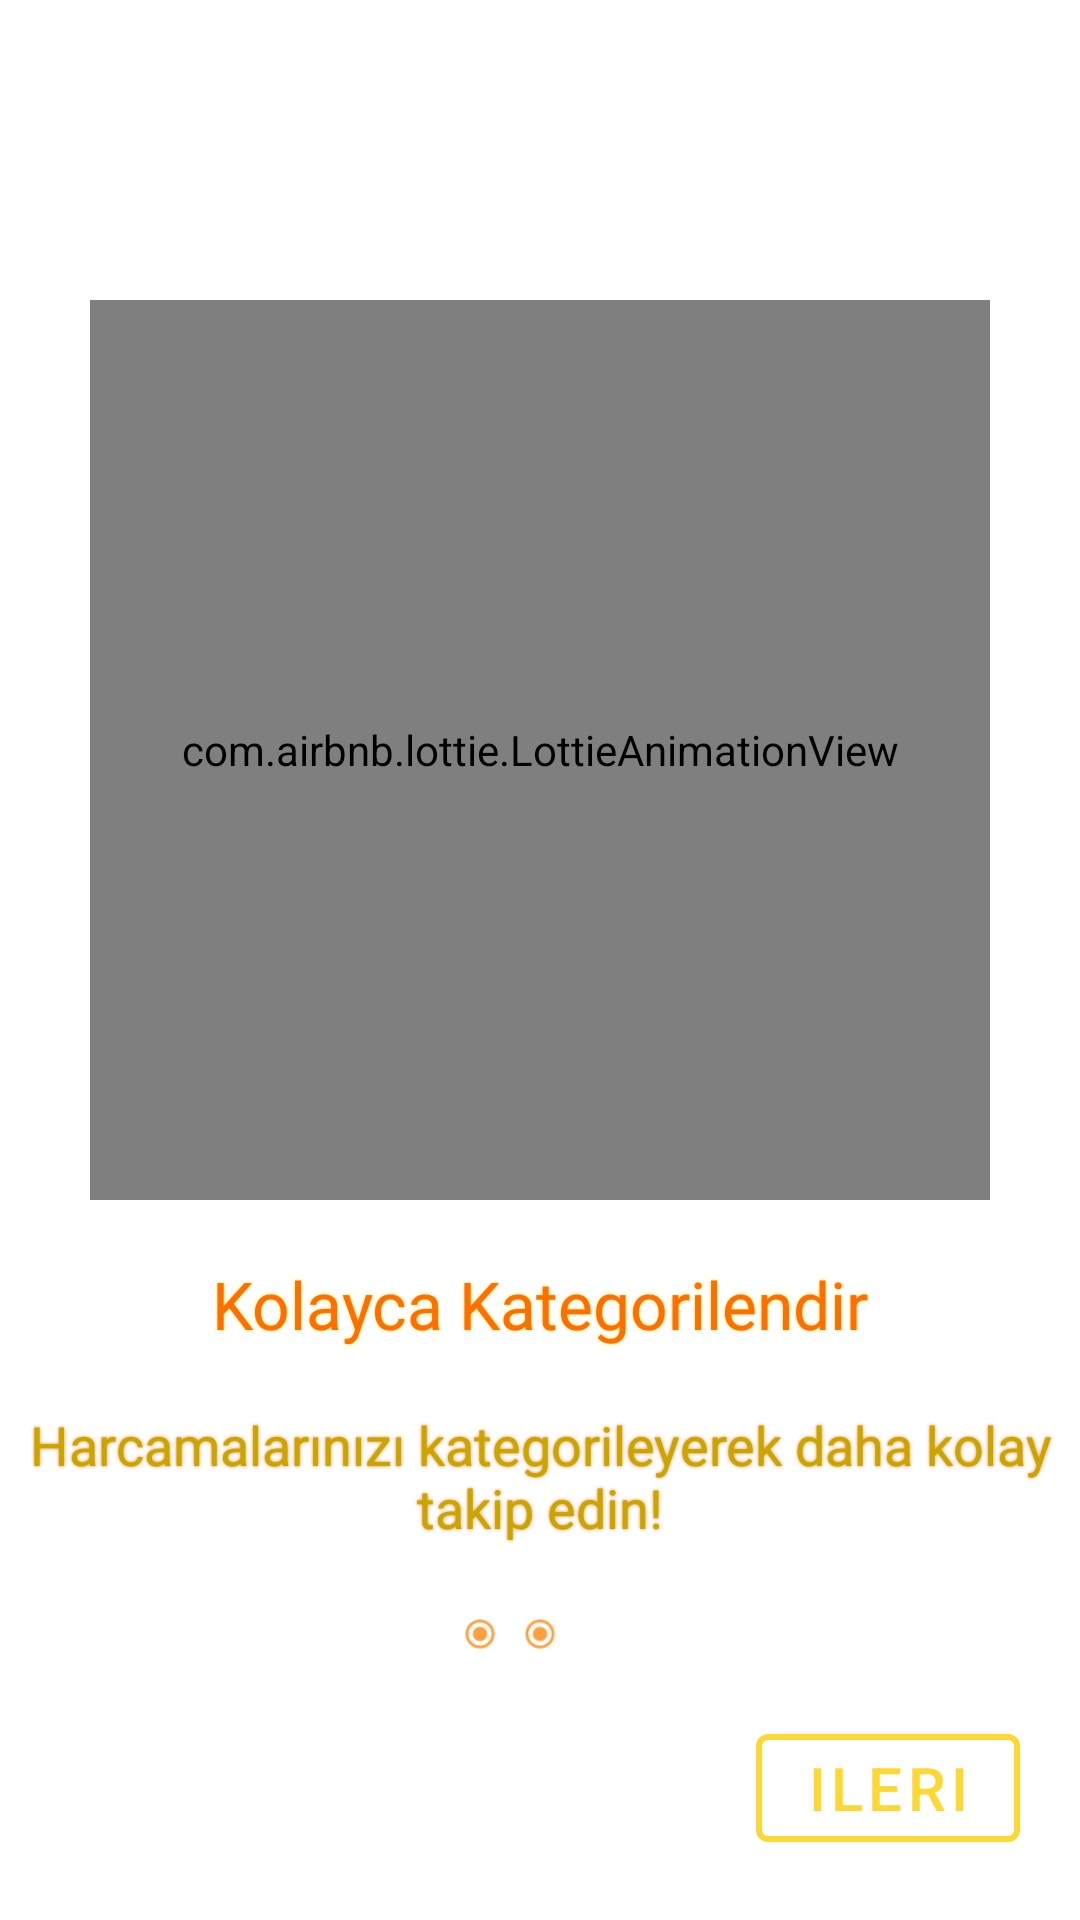

Where to tap for icons on this 1080 x 1920 app screen, as [x,y]:
circle full: [480,1634], [540,1634]
